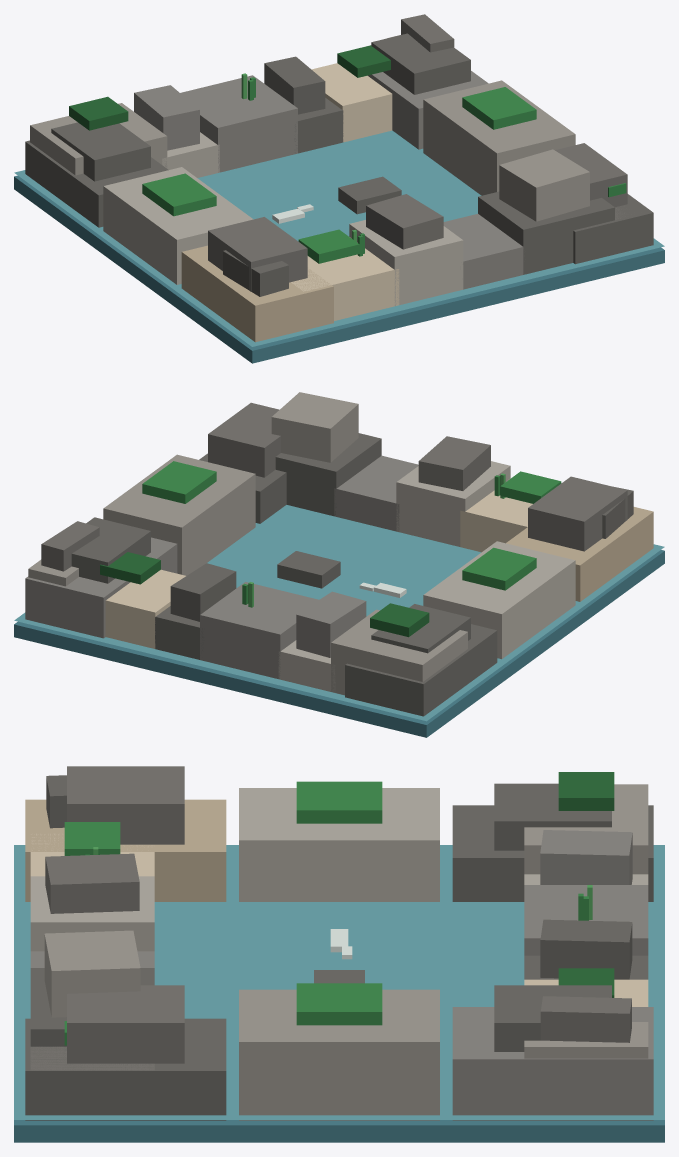
The model's file is vn_river_3x3.glb.
3 views of the same model, one above another, from view 1: azimuth 30°, elevation 25°; view 2: azimuth 150°, elevation 25°; view 3: azimuth 270°, elevation 25° (orthographic). The views are drawn at different scales.
Parts seen in each view (by area): view 1: WaterSurface, EdgeNZ_1, EdgePZ_1, EdgeNX_2, WaterBed, EdgePX_1, EdgePZ_2, EdgeNX_1, EdgeNZ_0, EdgePZ_0, EdgeNX_0, EdgeNZ_2 (+3 smaller); view 2: WaterSurface, EdgeNZ_1, EdgePZ_1, WaterBed, EdgeNZ_0, EdgePX_1, EdgeNX_1, EdgeNX_2, EdgePZ_2, EdgeNX_0, EdgePX_0, EdgeNZ_2 (+3 smaller); view 3: WaterSurface, EdgePX_1, EdgeNX_1, EdgePX_2, EdgePX_0, EdgeNX_2, WaterBed, EdgeNZ_1, EdgeNZ_0, EdgeNX_0, EdgePZ_1, EdgePZ_2 (+3 smaller).
Boxes of the visible parts, bbox=[...] form: WaterSurface: bbox=[14, 130, 664, 346]; EdgeNZ_1: bbox=[180, 56, 343, 172]; EdgePZ_1: bbox=[349, 194, 523, 306]; EdgeNX_2: bbox=[181, 217, 333, 342]; WaterBed: bbox=[14, 175, 664, 363]; EdgePX_1: bbox=[423, 80, 575, 195]; EdgePZ_2: bbox=[478, 149, 631, 274]; EdgeNX_1: bbox=[103, 167, 253, 284]; EdgeNZ_0: bbox=[30, 85, 219, 177]; EdgePZ_0: bbox=[223, 229, 399, 320]; EdgeNX_0: bbox=[25, 122, 168, 227]; EdgeNZ_2: bbox=[311, 14, 454, 142]; WaterSurface: bbox=[14, 505, 664, 721]; EdgeNZ_1: bbox=[155, 563, 318, 678]; EdgePZ_1: bbox=[334, 436, 510, 546]; WaterBed: bbox=[14, 550, 664, 737]; EdgeNZ_0: bbox=[278, 591, 467, 695]; EdgePX_1: bbox=[103, 454, 255, 575]; EdgeNX_1: bbox=[423, 541, 575, 659]; EdgeNX_2: bbox=[506, 476, 653, 601]; EdgePZ_2: bbox=[271, 392, 381, 516]; EdgeNX_0: bbox=[345, 604, 497, 716]; EdgePX_0: bbox=[25, 517, 177, 638]; EdgeNZ_2: bbox=[28, 521, 185, 648]; WaterSurface: bbox=[14, 845, 664, 1119]; EdgePX_1: bbox=[239, 983, 439, 1120]; EdgeNX_1: bbox=[239, 781, 439, 901]; EdgePX_2: bbox=[25, 985, 226, 1120]; EdgePX_0: bbox=[452, 985, 653, 1120]; EdgeNX_2: bbox=[25, 766, 226, 901]; WaterBed: bbox=[14, 1120, 664, 1142]; EdgeNZ_1: bbox=[524, 885, 648, 979]; EdgeNZ_0: bbox=[524, 772, 648, 884]; EdgeNX_0: bbox=[452, 783, 653, 901]; EdgePZ_1: bbox=[30, 853, 154, 967]; EdgePZ_2: bbox=[30, 930, 154, 1070].
Size of the model in its own units: 2.03 by 0.45 by 2.03.
